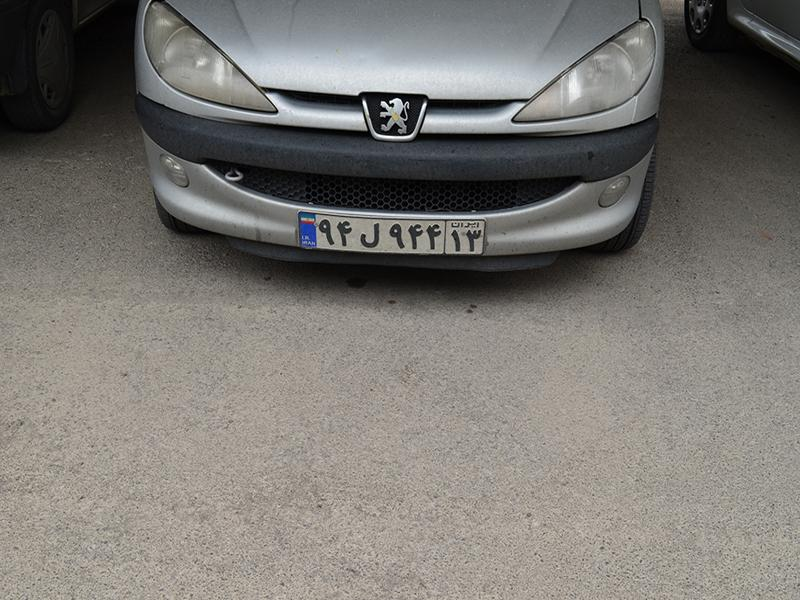Plate: (299, 206, 486, 261)
